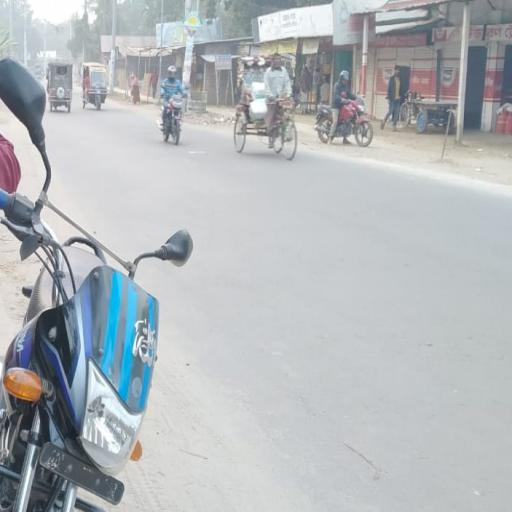auto rickshaw: (47, 60, 74, 112), (81, 64, 108, 109)
motorbike: (3, 56, 196, 512), (318, 97, 373, 144), (159, 65, 186, 145)
rickshaw: (234, 56, 299, 161)
